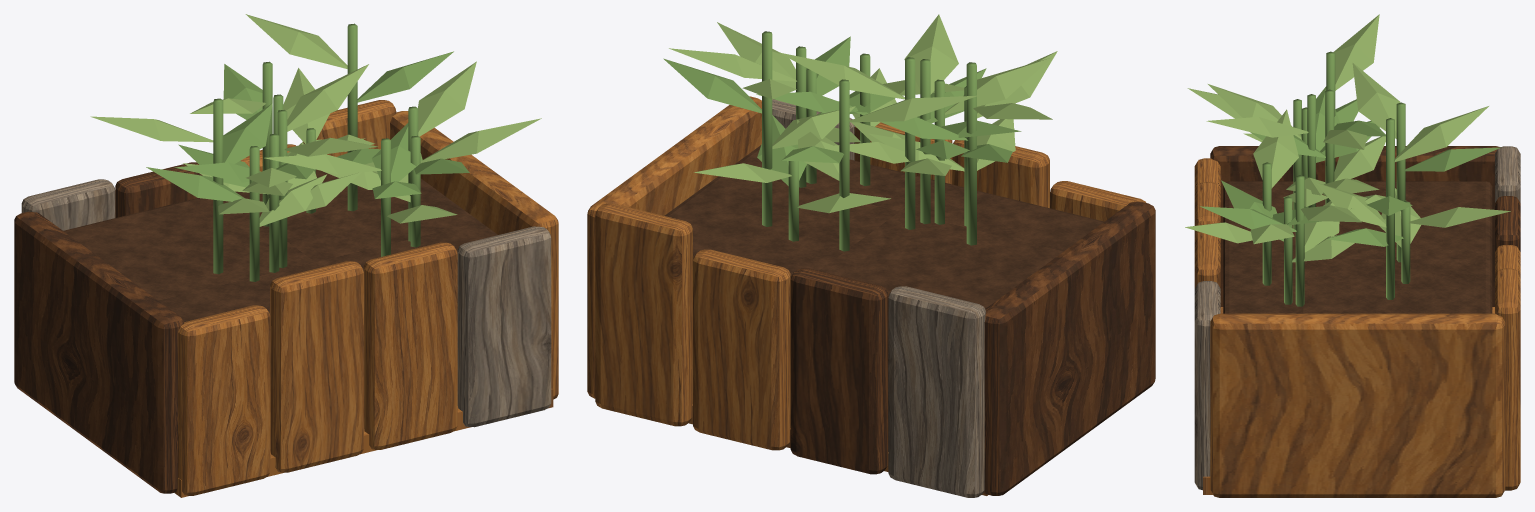
File: planter.glb
3 renders of one model, left to right at view 1: azimuth 30°, elevation 25°; view 2: azimuth 150°, elevation 25°; view 3: azimuth 270°, elevation 25°, orthographic. The views are drawn at different scales.
Parts seen in each view (by area): view 1: GEO-PlanterV2-Wood, GEO-PlanterV2-Soil, GEO-PlanterV2-PlantGreen, GEO-PlanterV2-PlantGreenLight; view 2: GEO-PlanterV2-Wood, GEO-PlanterV2-Soil, GEO-PlanterV2-PlantGreen, GEO-PlanterV2-PlantGreenLight; view 3: GEO-PlanterV2-Wood, GEO-PlanterV2-Soil, GEO-PlanterV2-PlantGreenLight, GEO-PlanterV2-PlantGreen.
Boxes of the visible parts, left/top/right/bottom form: GEO-PlanterV2-Wood: left=14, top=100, right=558, bottom=497; GEO-PlanterV2-Soil: left=63, top=169, right=497, bottom=322; GEO-PlanterV2-PlantGreen: left=146, top=23, right=469, bottom=281; GEO-PlanterV2-PlantGreenLight: left=90, top=14, right=541, bottom=226; GEO-PlanterV2-Wood: left=587, top=96, right=1155, bottom=497; GEO-PlanterV2-Soil: left=664, top=145, right=1103, bottom=308; GEO-PlanterV2-PlantGreen: left=663, top=31, right=1021, bottom=251; GEO-PlanterV2-PlantGreenLight: left=669, top=14, right=1057, bottom=213; GEO-PlanterV2-Wood: left=1194, top=146, right=1520, bottom=497; GEO-PlanterV2-Soil: left=1223, top=181, right=1492, bottom=313; GEO-PlanterV2-PlantGreenLight: left=1185, top=14, right=1510, bottom=262; GEO-PlanterV2-PlantGreen: left=1200, top=51, right=1500, bottom=306.
Size of the model in its own units: 1.19 by 0.95 by 0.89.
6 materials, 4 textured.
